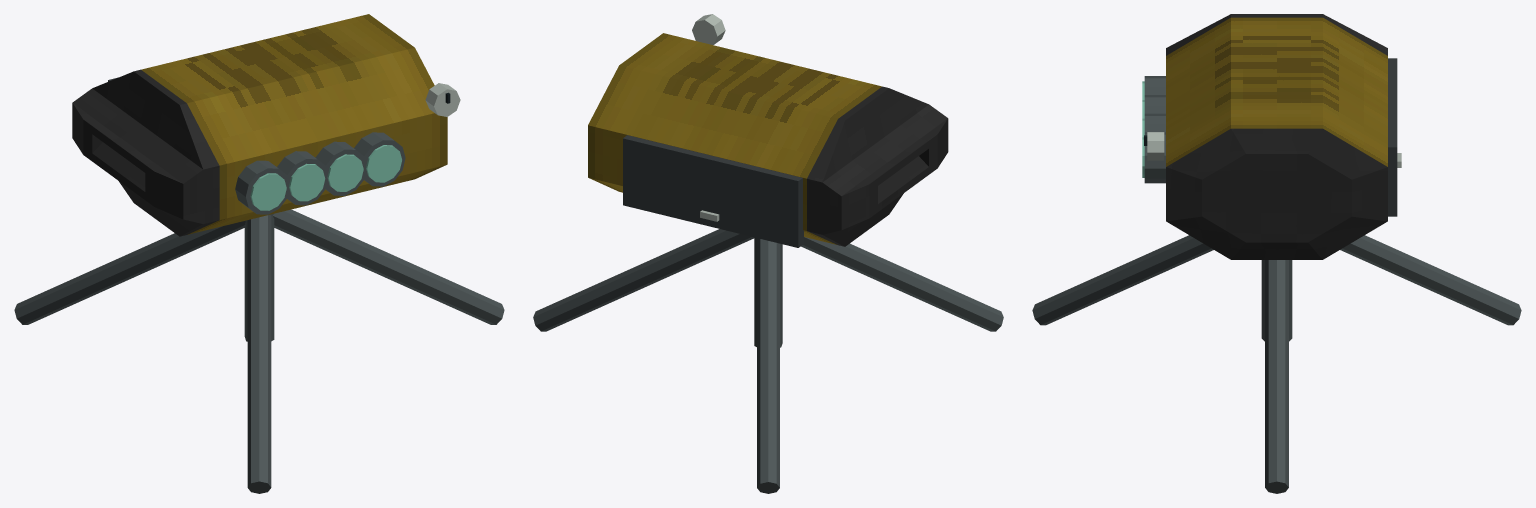
The model's file is blender_dots_projector_3_deployed.glb.
3 renders of one model, left to right at view 1: azimuth 30°, elevation 25°; view 2: azimuth 150°, elevation 25°; view 3: azimuth 270°, elevation 25°, orthographic. The views are drawn at different scales.
Parts seen in each view (by area): view 1: blender_dots_projector_3_deployed; view 2: blender_dots_projector_3_deployed; view 3: blender_dots_projector_3_deployed.
Part boxes in pixels (left/top/right/bottom): blender_dots_projector_3_deployed: left=14, top=14, right=504, bottom=493; blender_dots_projector_3_deployed: left=533, top=14, right=1003, bottom=493; blender_dots_projector_3_deployed: left=1032, top=14, right=1521, bottom=493.
Bounding box in the file's own units: 0.2589 × 0.2053 × 0.2868.
1 material, 1 textured.
